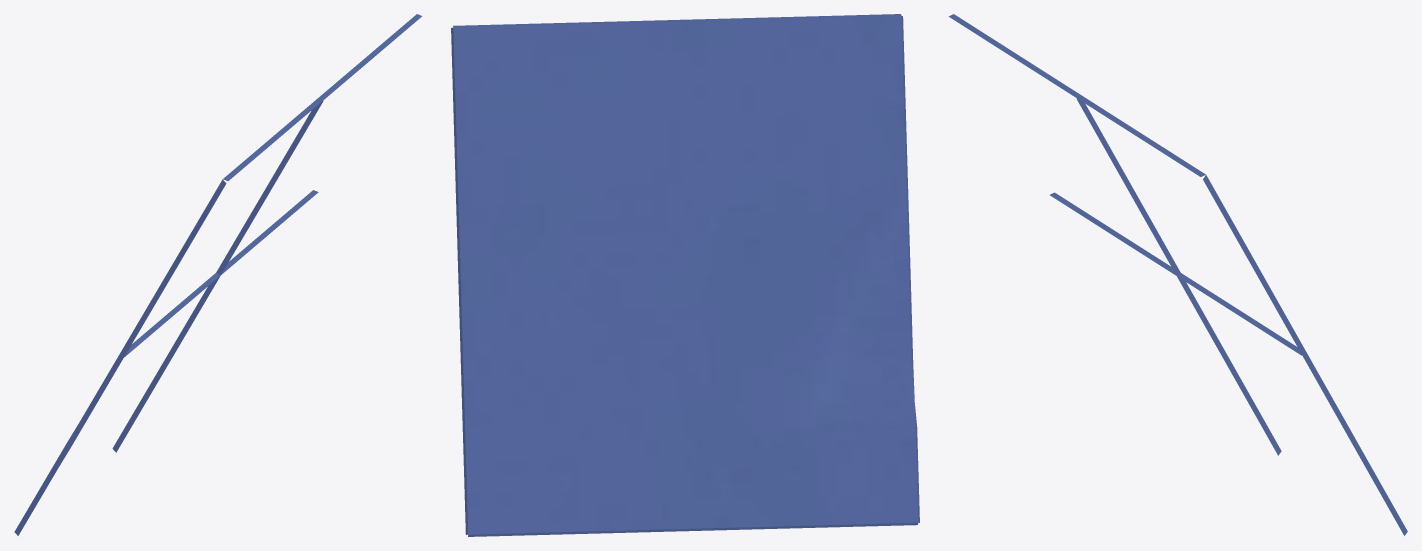
3 views of the same model, side by side, from view 1: azimuth 30°, elevation 25°; view 2: azimuth 150°, elevation 25°; view 3: azimuth 270°, elevation 25° (orthographic). The views are drawn at different scales.
Size of the model in its own units: 39524 by 34996 by 34906.
Materials: 1 (1 with a texture image).
